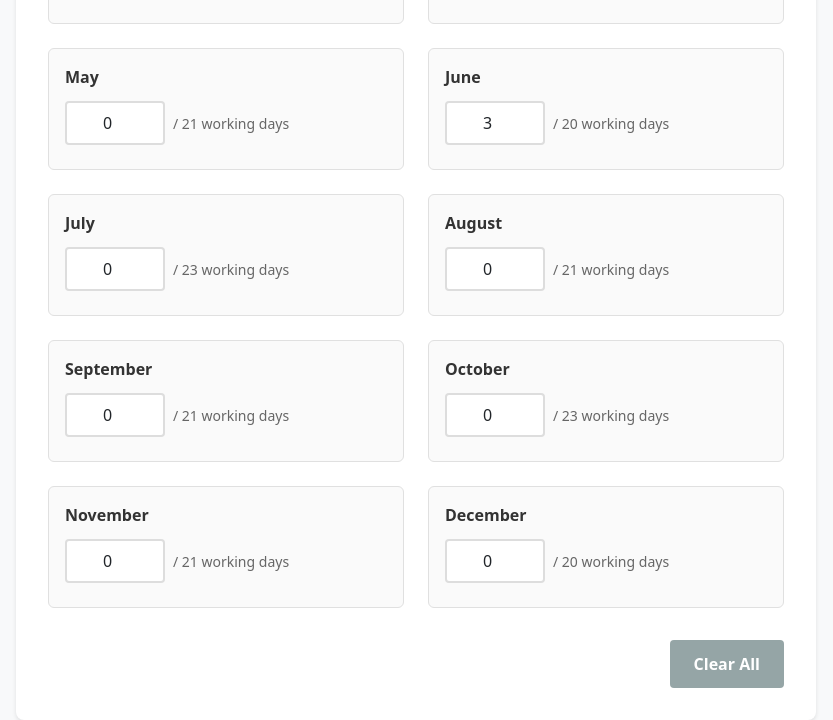
it: AnnualLeaveInput › Clear All Functionality › clears all annual leave when Clear All button is clicked
(page scrolled)
Click the button "Clear All" at (727, 664), box [670,640,784,688]
(page scrolled)
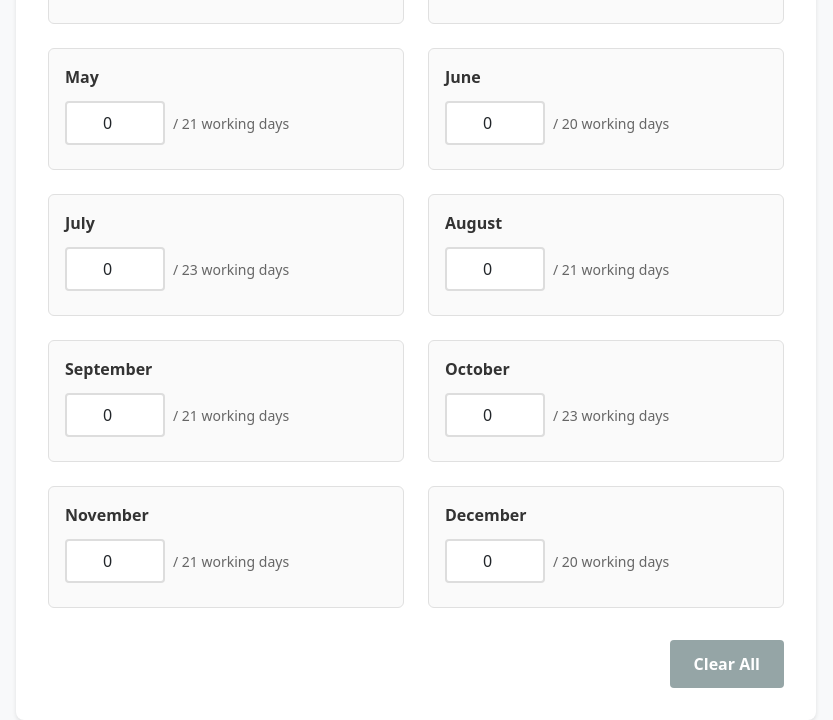
Result: the number field labelled "June" holds "0" at [445,101,545,145]
